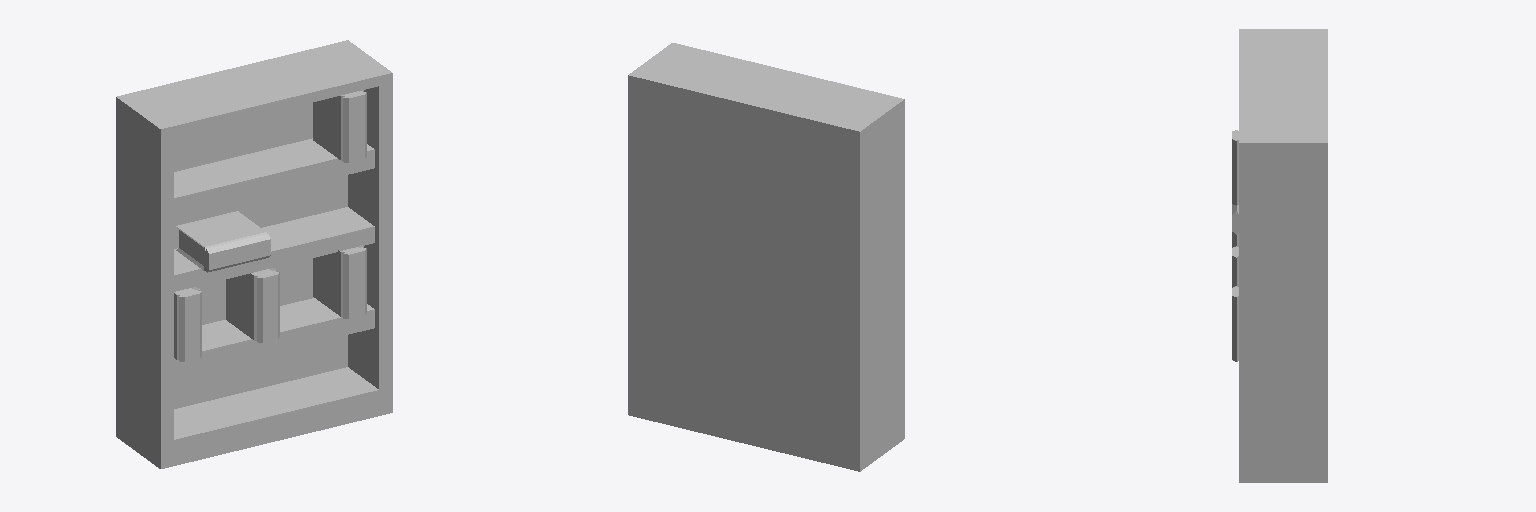
The model's file is Props_BookshelfFull_geo.obj.
The picture shows the model from 3 angles: view 1: azimuth 30°, elevation 25°; view 2: azimuth 150°, elevation 25°; view 3: azimuth 270°, elevation 25°; orthographic projection.
Parts seen in each view (by area): view 1: PropZoo:pCube43, PropZoo:pCube47, PropZoo:pCube45, PropZoo:pCube49, PropZoo:pCube48, PropZoo:pCube46; view 2: PropZoo:pCube43; view 3: PropZoo:pCube43.
Boxes of the visible parts, x1=… form: PropZoo:pCube43: x1=116, y1=40, x2=392, y2=468; PropZoo:pCube47: x1=176, y1=211, x2=270, y2=272; PropZoo:pCube45: x1=226, y1=268, x2=279, y2=342; PropZoo:pCube49: x1=313, y1=245, x2=366, y2=318; PropZoo:pCube48: x1=313, y1=90, x2=366, y2=162; PropZoo:pCube46: x1=174, y1=287, x2=201, y2=361; PropZoo:pCube43: x1=628, y1=43, x2=904, y2=471; PropZoo:pCube43: x1=1239, y1=29, x2=1327, y2=482.
Size of the model in its own units: 1.5 by 2.1 by 0.5368.